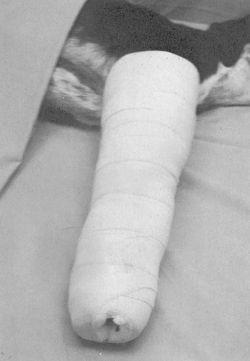bandage: (66, 49, 199, 344)
